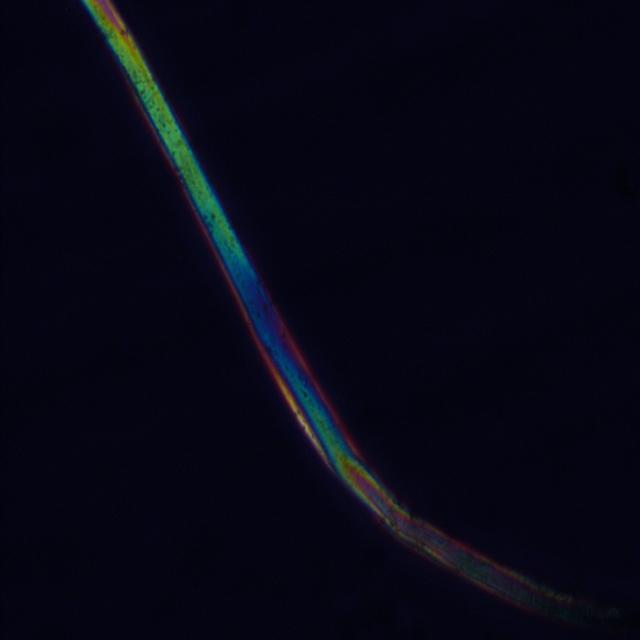Microfibre: (80, 0, 640, 637)
